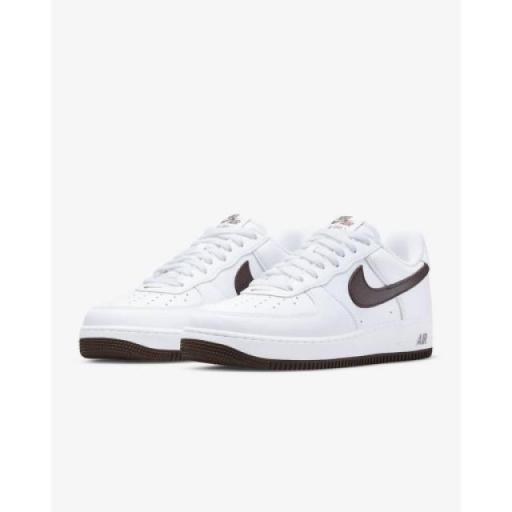Nike: (339, 259, 432, 312)
